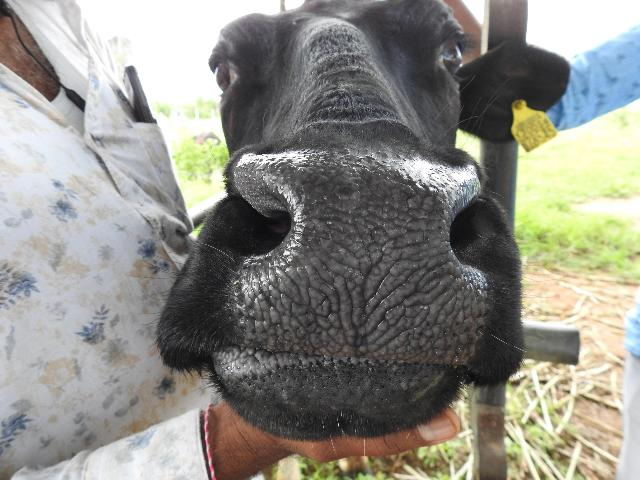Muzzle: (254, 160, 458, 358)
